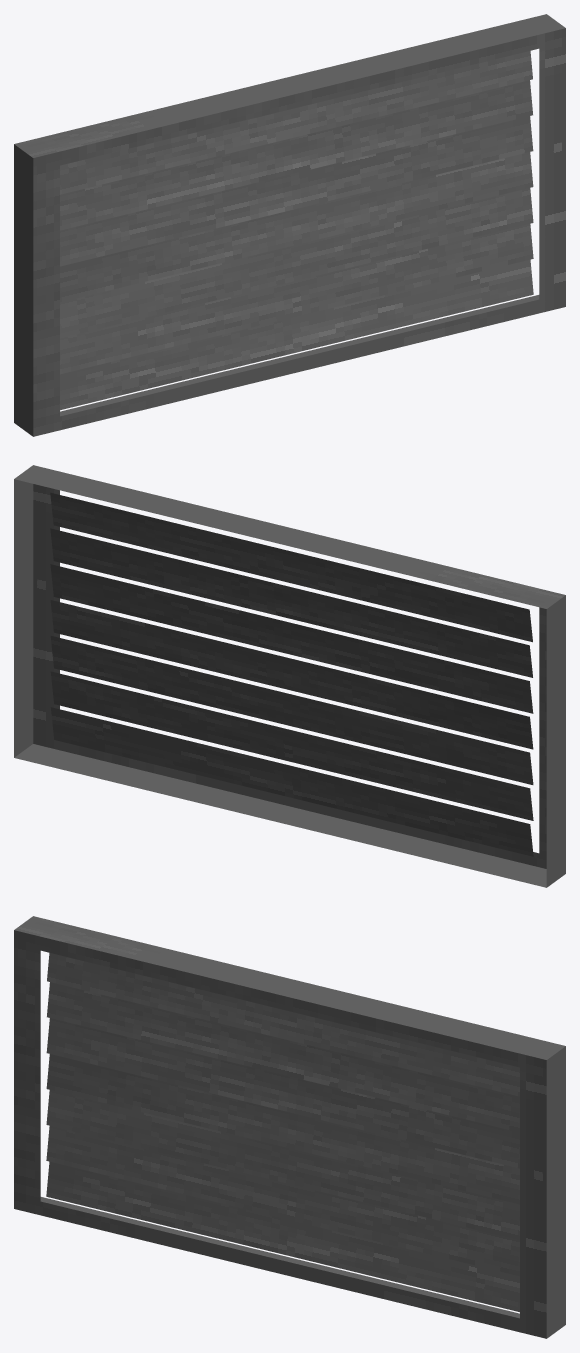
The model's file is vent_closed-Q2I53RAB.gltf.
3 views of the same model, one above another, from view 1: azimuth 30°, elevation 25°; view 2: azimuth 150°, elevation 25°; view 3: azimuth 330°, elevation 25° (orthographic).
Parts seen in each view (by area): view 1: blade (×7), vent; view 2: blade (×7), vent; view 3: blade (×7), vent.
Boxes of the visible parts, left/top/right/bottom form: blade (×7): left=60, top=50, right=533, bottom=410; vent: left=14, top=14, right=565, bottom=436; blade (×7): left=50, top=492, right=533, bottom=856; vent: left=14, top=465, right=565, bottom=887; blade (×7): left=46, top=952, right=519, bottom=1312; vent: left=14, top=916, right=565, bottom=1338.
Size of the model in its own units: 0.5 by 0.25 by 0.0312.
1 material, 1 textured.
